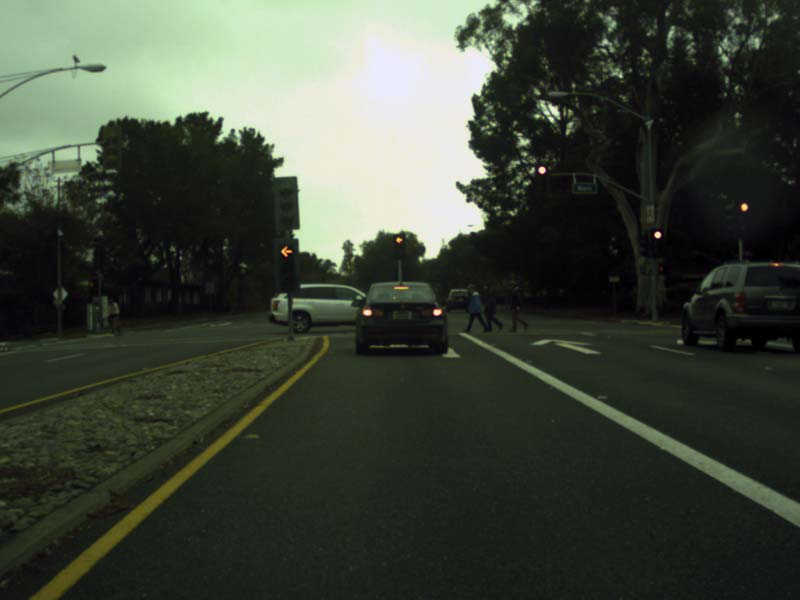Red: (274, 238, 299, 289), (737, 201, 751, 232), (535, 164, 549, 192), (651, 228, 664, 257), (393, 234, 405, 257)
